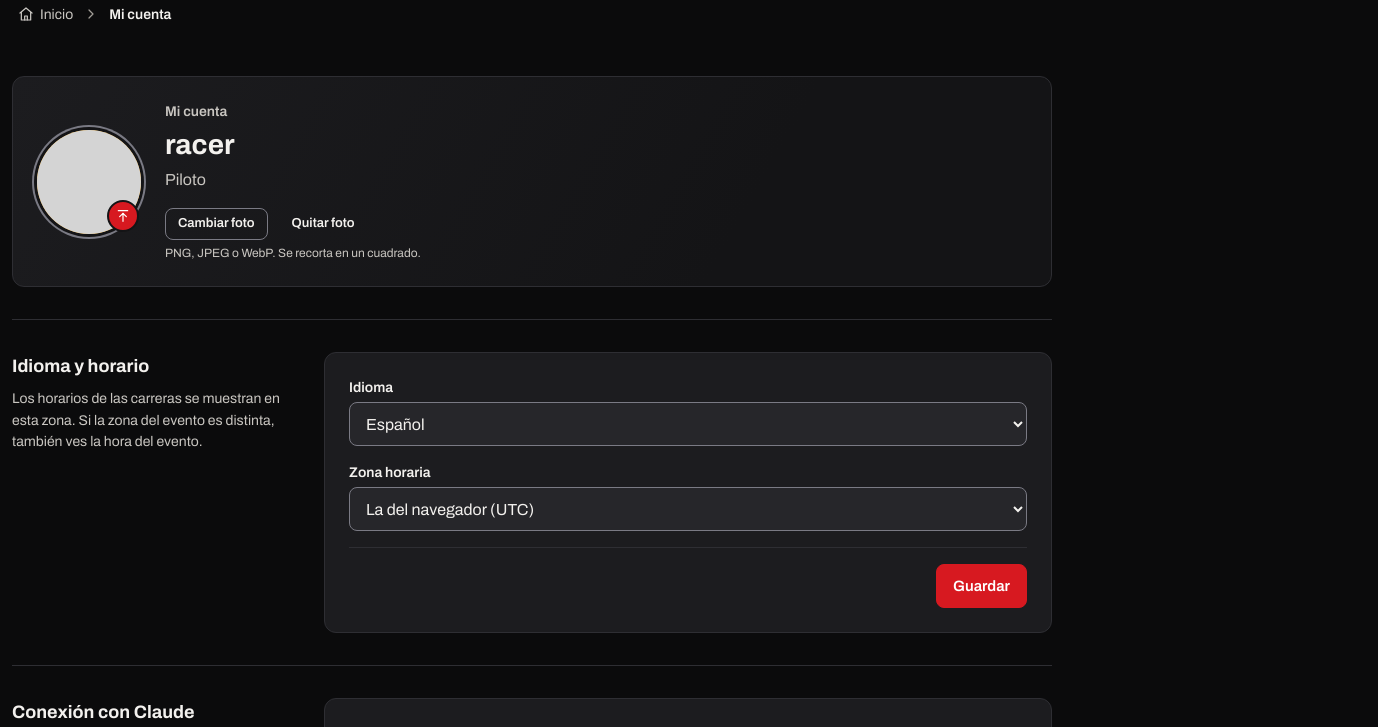
Test case: AccountPage › shows the photo and removes it
Click the button "Quitar foto".
click(323, 224)  # box [280, 208, 366, 240]
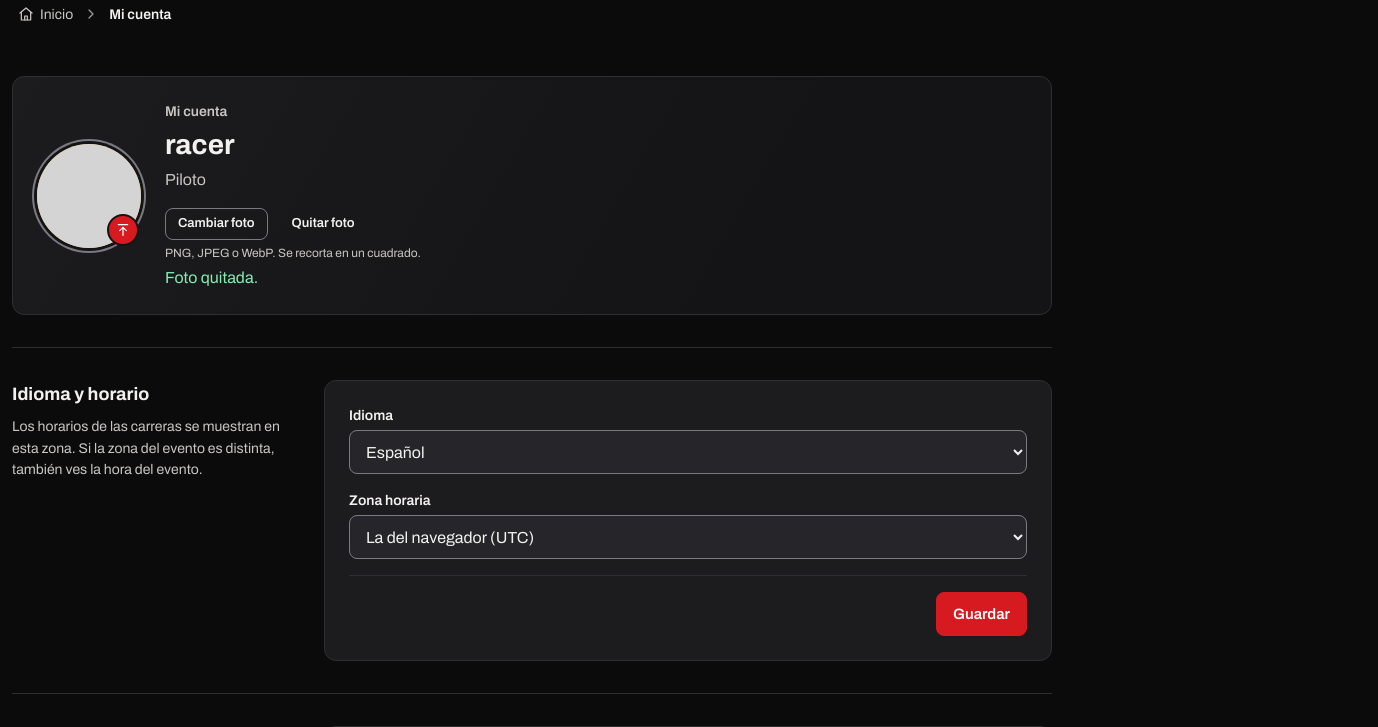
Expected: the message reads "Foto quitada.", [165, 269, 258, 286]
